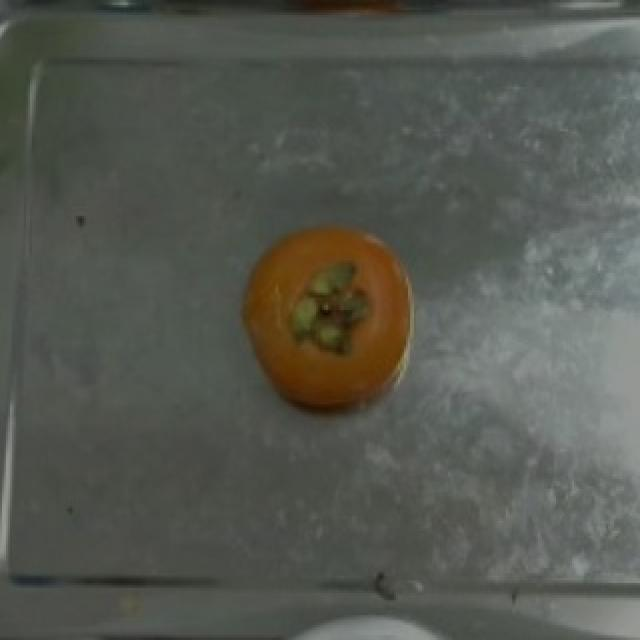Fruit: (228, 208, 440, 432)
